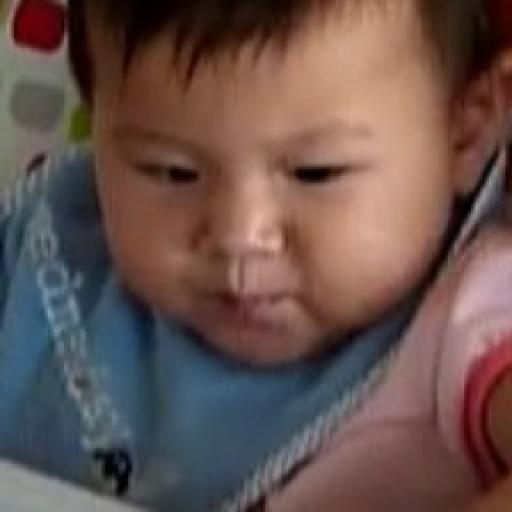Autism: (105, 0, 482, 448)
